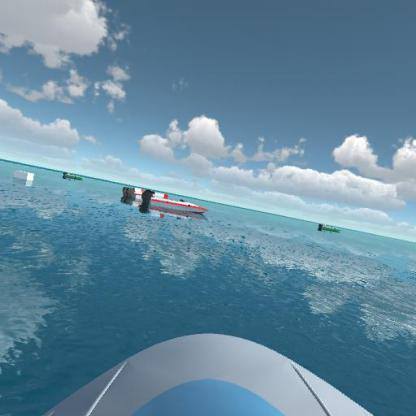usv0: (315, 219, 341, 237), (60, 166, 86, 183)
usv3: (144, 186, 212, 219), (122, 180, 172, 206)
